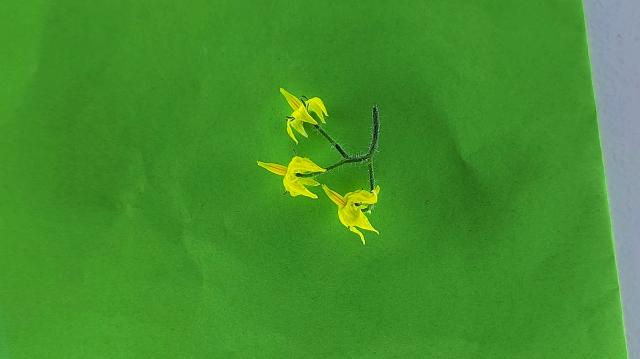Anthesis: (321, 181, 382, 245), (256, 152, 329, 200), (278, 86, 329, 145)
